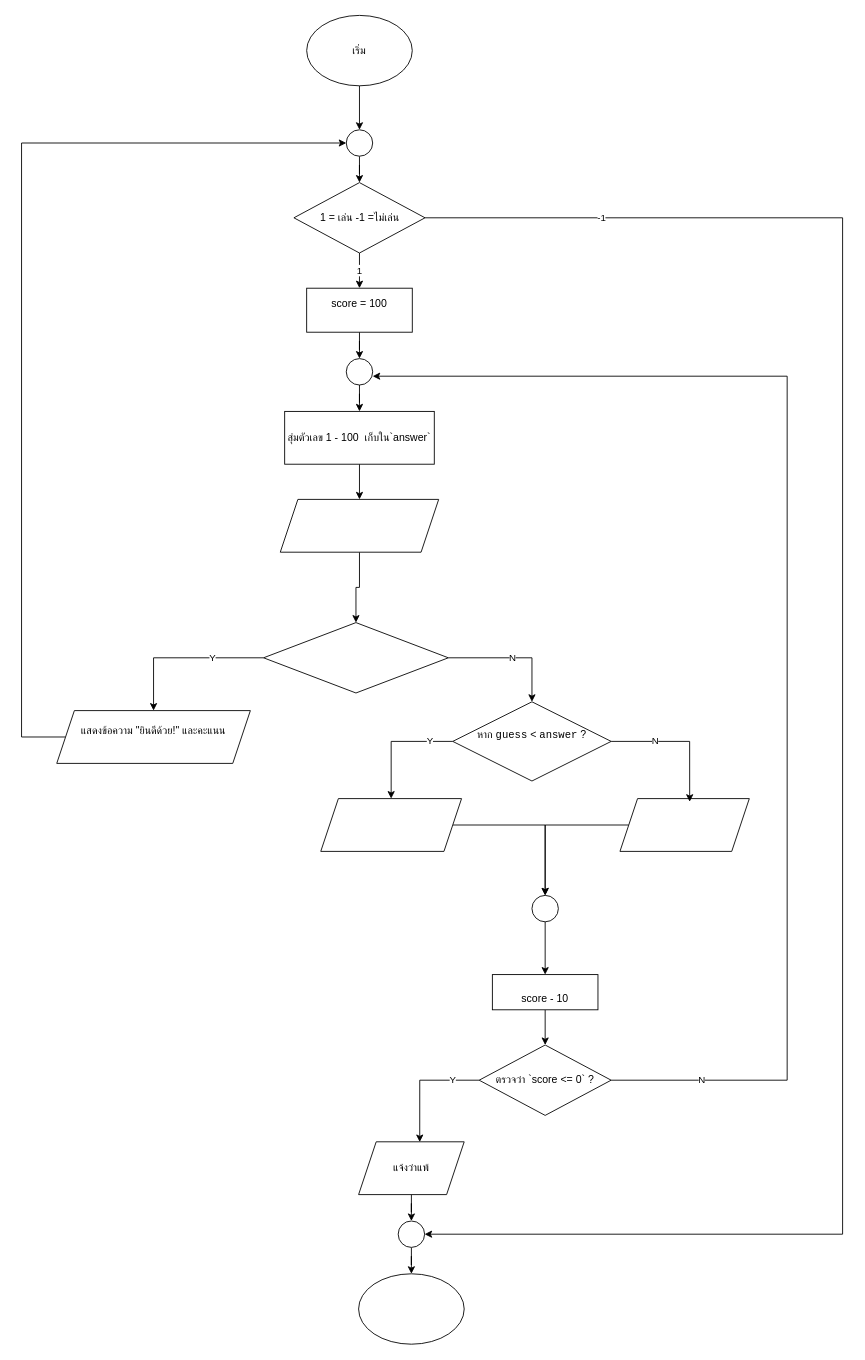
This 865x1360 diagram has some shape labels left out. The shapes that lost their labels are listed below. From the top down, each one's centre as x and y in pixels, then its label:
[359,525]: รับค่าทายจากผู้เล่น ( guess )
[355,657]: ตรวจว่า guess == answer ?
[391,824]: บอกใบ้ว่า "มากกว่า"
[684,824]: บอกใบ้ว่า "น้อยกว่า"
[411,1308]: จบ
